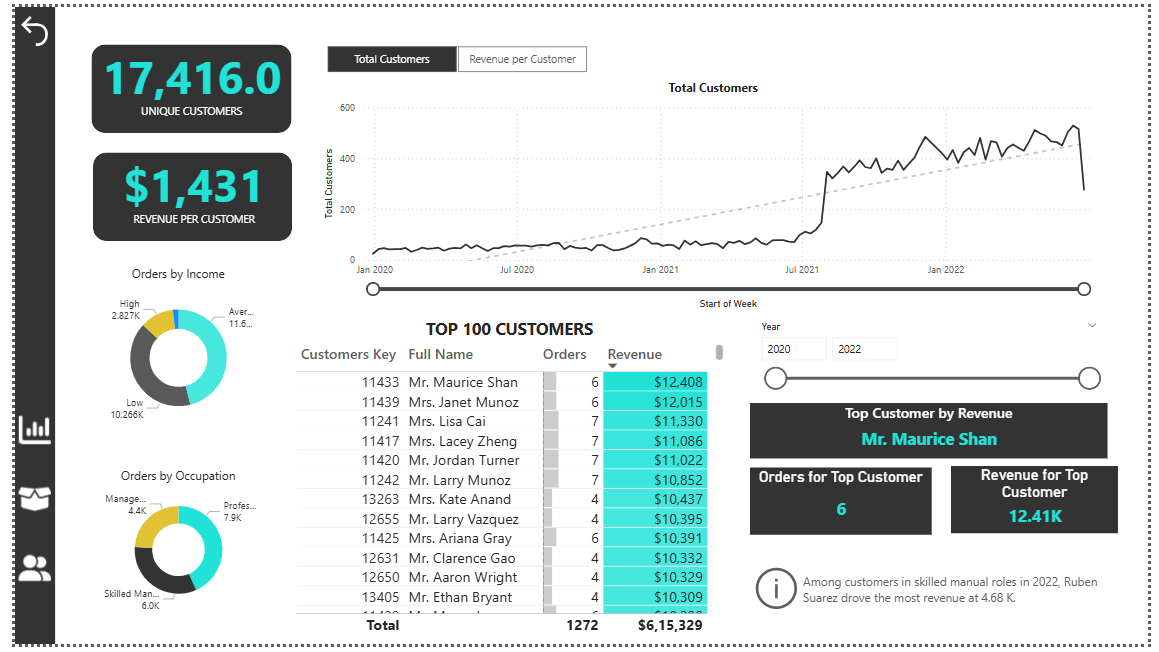

Layout of this report page (visuals, bound fields, positions):
{"tool":"powerbi","page":{"name":"Customer Dashboard","canvas":[1280,720],"ordinal":3},"visuals":[{"type":"shape","box":[0,0,45.3,720.6],"z":0},{"type":"actionButton","box":[0.6,453.9,44.7,48],"z":0,"group":"g1"},{"type":"shape","box":[88.6,164.3,225,100],"z":1000},{"type":"actionButton","box":[0.6,531.8,44.7,48],"z":1000,"group":"g1"},{"type":"shape","box":[85.8,41.9,226,100],"z":2000},{"type":"actionButton","box":[0.6,609.6,44.7,48],"z":2000,"group":"g1"},{"type":"card","fields":{"Values":["Measures table (non_dax).Total Customers"]},"box":[85.7,10.4,225.8,148.7],"z":3000},{"type":"lineChart","fields":{"Category":["Calendar Lookup.DATE hierarchy.Start of Year","Calendar Lookup.DATE hierarchy.Start of Month","Calendar Lookup.DATE hierarchy.Start of Week","Calendar Lookup.DATE hierarchy.Date"],"Y":["Measures table (non_dax).Average Revenue per Customer"]},"box":[344.5,81.2,889.5,265],"z":4000},{"type":"card","fields":{"Values":["Measures table (non_dax).Average Revenue per Customer"]},"box":[89.3,141,224.4,131],"z":5000},{"type":"donutChart","title":" Orders by Income ","fields":{"Category":["Customer Lookup.Income Level"],"Y":["Measures table (non_dax).Total Orders"]},"box":[89.6,290.8,189.2,191.2],"z":6000},{"type":"donutChart","title":" Orders by Occupation","fields":{"Category":["Customer Lookup.Occupation"],"Y":["Measures table (non_dax).Total Orders"]},"box":[89.6,519.8,189.2,167.3],"z":7000},{"type":"tableEx","title":"TOP 100 CUSTOMERS","fields":{"Values":["Customer Lookup.CustomerKey","Customer Lookup.Full Name","Measures table (non_dax).Total Orders","Measures table (non_dax).Total Revenue"]},"box":[311.4,351.2,493.6,361.1],"z":8000},{"type":"card","title":"Top Customer by Revenue","fields":{"Values":["Customer Lookup.Full name ( Customer Detail)"]},"box":[829.9,447.2,404.2,62.9],"z":9000},{"type":"card","title":"Revenue for Top Customer","fields":{"Values":["Measures table (non_dax).Total Revenue (Customer Details)"]},"box":[1056.8,518.5,188.8,76.2],"z":10000},{"type":"card","title":"Orders  for Top Customer","fields":{"Values":["Measures table (non_dax).Total Orders (Customer details)"]},"box":[829.9,520.1,205.4,76.2],"z":11000},{"type":"slicer","fields":{"Values":["Calendar Lookup.Year"]},"box":[829.9,349.5,404.2,97.7],"z":12000},{"type":"actionButton","box":[829.9,627.8,404.2,59.6],"z":13000},{"type":"actionButton","box":[0,0,44.7,54.7],"z":14000},{"type":"group","id":"g1","title":"Navigation buttons","box":[0.6,453.9,44.7,203.7],"z":15000},{"type":"slicer","fields":{"Values":["Customer Metric selection.Customer Metric selection"]},"box":[333,38.1,333,43.1],"z":16500}]}

Visuals, with their boxes on the page's 1280x720 design canvas (x1, y1, x2, y2). These are canvas units, not pixel positions in the 1159x652 screenshot, which may show the page scaled, cropped or inside an application window:
shape: <bbox>0, 0, 45, 721</bbox>
actionButton: <bbox>1, 454, 45, 502</bbox>
shape: <bbox>89, 164, 314, 264</bbox>
actionButton: <bbox>1, 532, 45, 580</bbox>
shape: <bbox>86, 42, 312, 142</bbox>
actionButton: <bbox>1, 610, 45, 658</bbox>
card - Measures table (non_dax).Total Customers: <bbox>86, 10, 312, 159</bbox>
lineChart - Calendar Lookup.DATE hierarchy.Start of Year x Calendar Lookup.DATE hierarchy.Start of Month: <bbox>344, 81, 1234, 346</bbox>
card - Measures table (non_dax).Average Revenue per Customer: <bbox>89, 141, 314, 272</bbox>
" Orders by Income " donutChart: <bbox>90, 291, 279, 482</bbox>
" Orders by Occupation" donutChart: <bbox>90, 520, 279, 687</bbox>
"TOP 100 CUSTOMERS" tableEx: <bbox>311, 351, 805, 712</bbox>
"Top Customer by Revenue" card: <bbox>830, 447, 1234, 510</bbox>
"Revenue for Top Customer" card: <bbox>1057, 518, 1246, 595</bbox>
"Orders  for Top Customer" card: <bbox>830, 520, 1035, 596</bbox>
slicer - Calendar Lookup.Year: <bbox>830, 350, 1234, 447</bbox>
actionButton: <bbox>830, 628, 1234, 687</bbox>
actionButton: <bbox>0, 0, 45, 55</bbox>
"Navigation buttons" group: <bbox>1, 454, 45, 658</bbox>
slicer - Customer Metric selection.Customer Metric selection: <bbox>333, 38, 666, 81</bbox>
